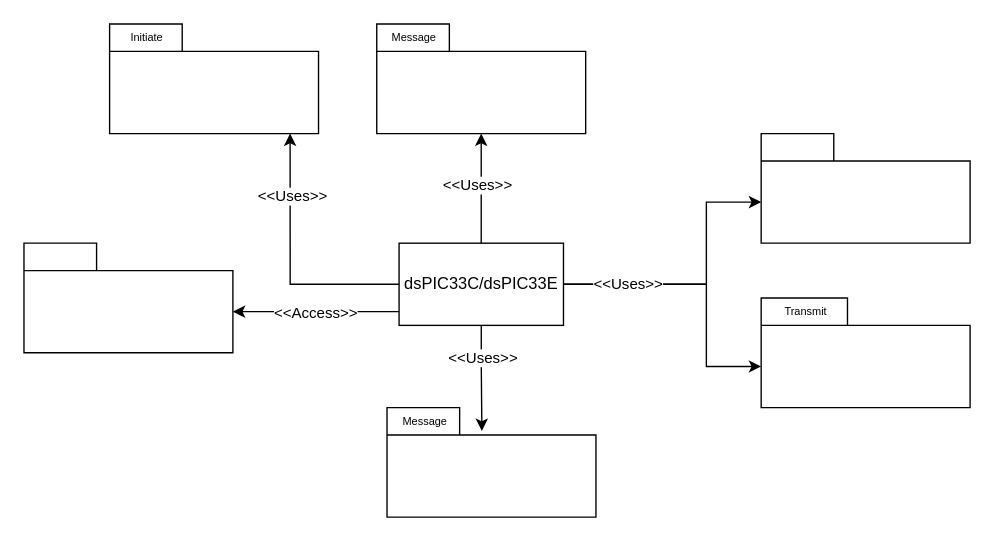
Some shapes in this 995 by 541 pixel diagram are drawn without their labels. The shapes that lost their labels are listed below. From the top down, each one's centre as x and y in pixels, then its label:
the point at 865,187: Receive
the point at 128,297: Peripherals
